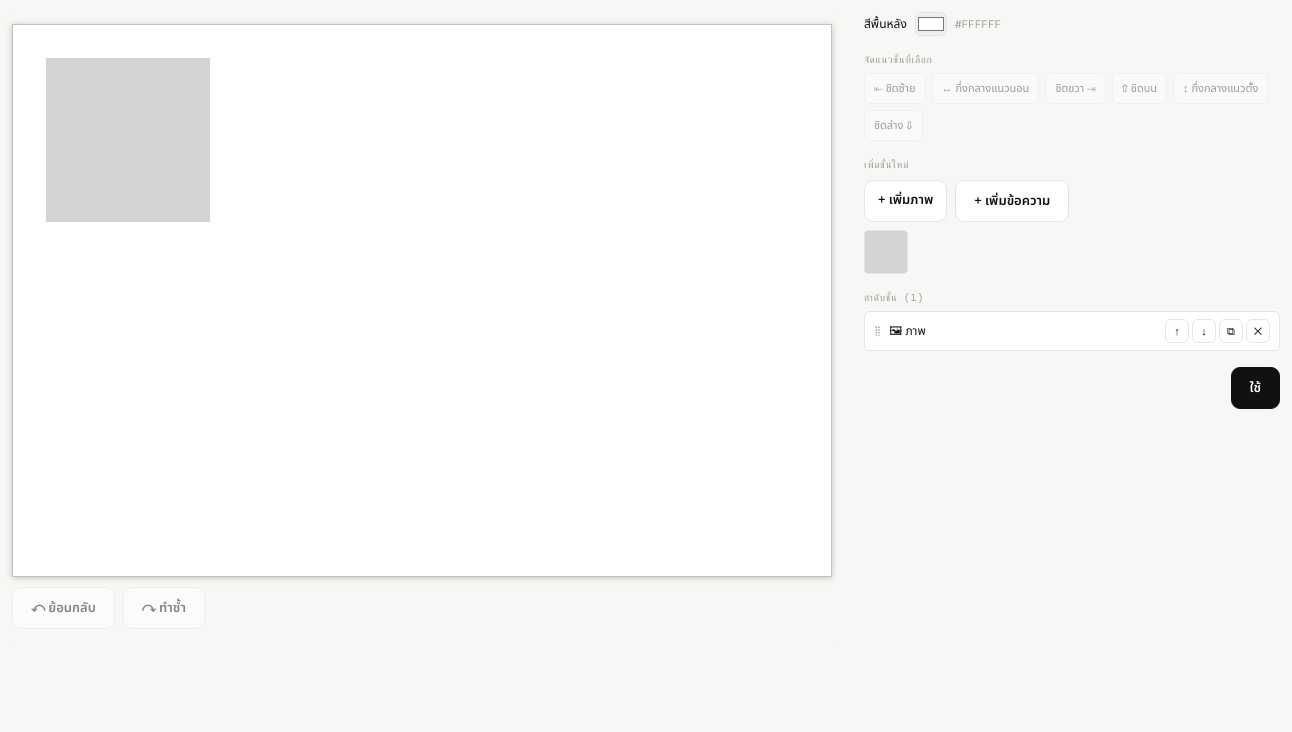
Test: Compositor · ปุ่ม "ใช้" › applyComposition ล้ม — แสดงเหตุผล ไม่พาไปไหน
The width and height of the screenshot is (1292, 732).
Click the button "ใช้" at (1255, 388), box [1231,367,1280,409]
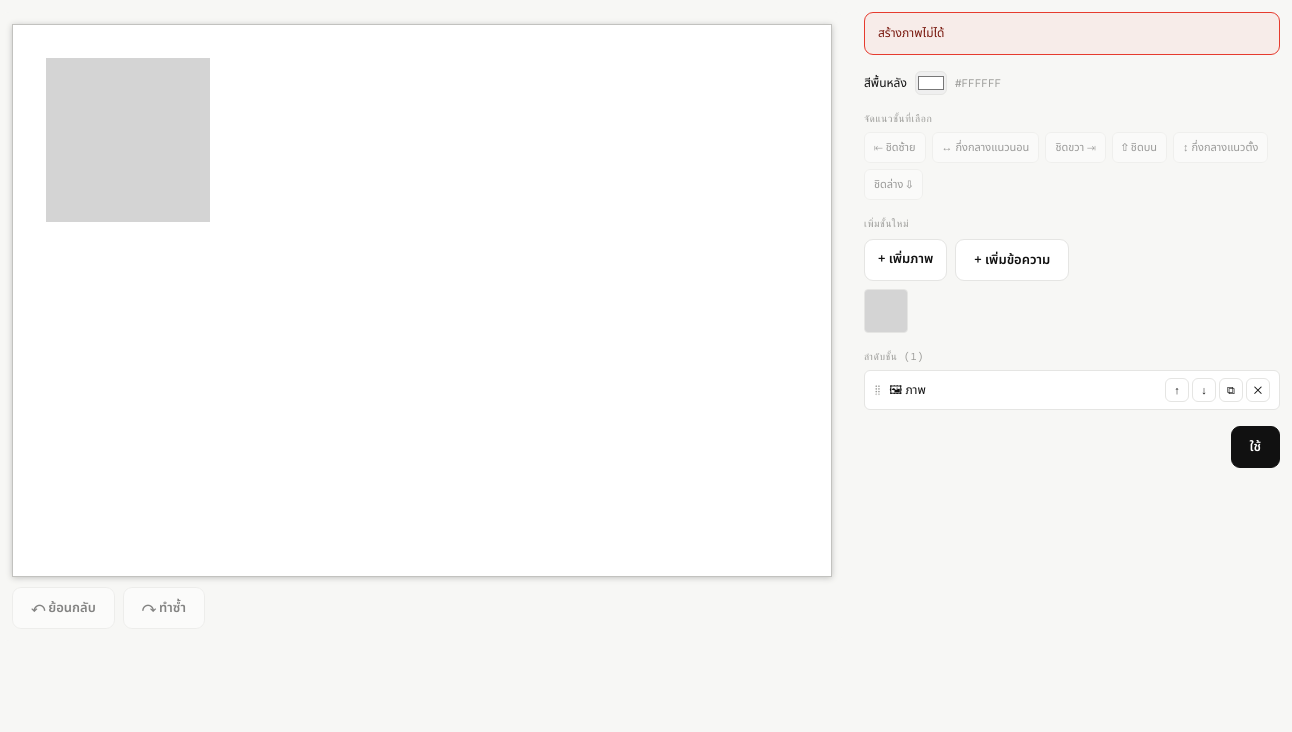
Check: the text "สร้างภาพไม่ได้" is shown, box [864,12,1280,55]
